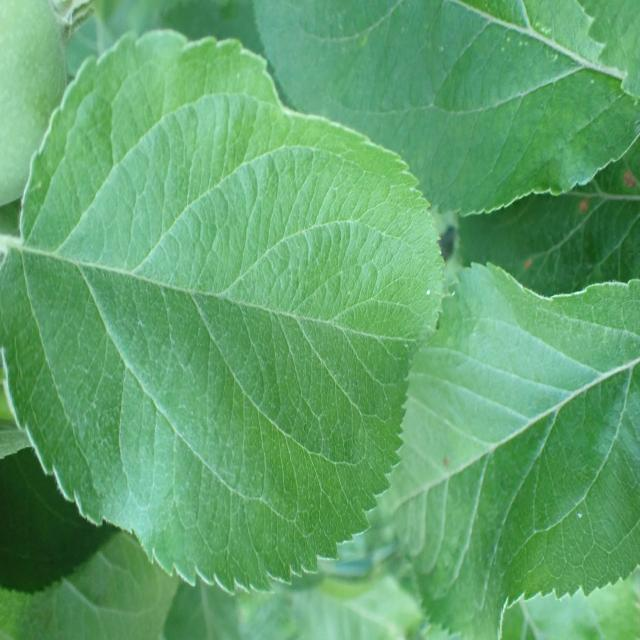healthy: (0, 27, 448, 596), (373, 259, 640, 637), (251, 0, 639, 217)
